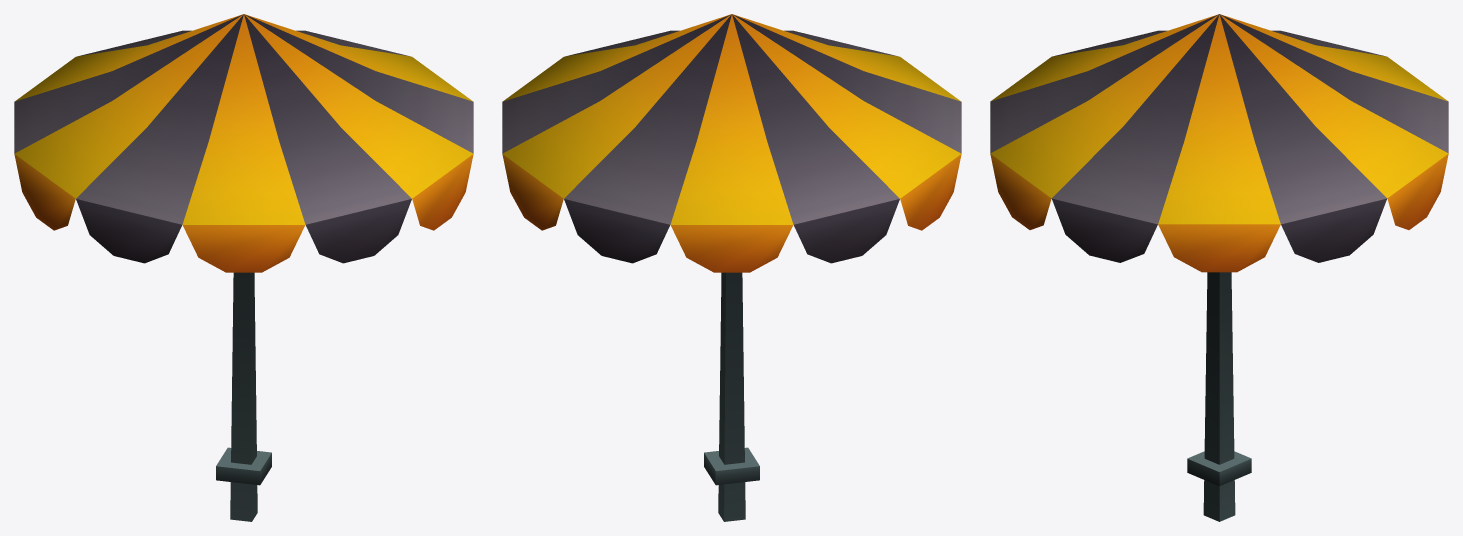
The model's file is Umbrella_2C.fbx.
3 views of the same model, side by side, from view 1: azimuth 30°, elevation 25°; view 2: azimuth 150°, elevation 25°; view 3: azimuth 270°, elevation 25° (orthographic).
Visible parts, largest first — view 1: Umbrella_2C; view 2: Umbrella_2C; view 3: Umbrella_2C.
Part boxes in pixels (box(x1,y1,x2,y2)): Umbrella_2C: box(14, 14, 473, 521); Umbrella_2C: box(502, 14, 961, 521); Umbrella_2C: box(990, 14, 1448, 521).
Size of the model in its own units: 366 by 442 by 366.
